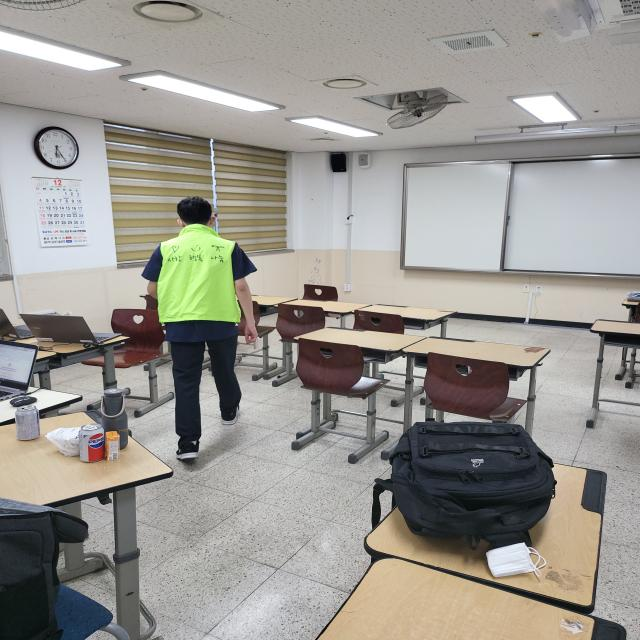weston_spy: (148, 217, 252, 329)
